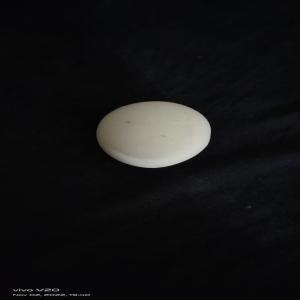Egg: (96, 100, 215, 169)
